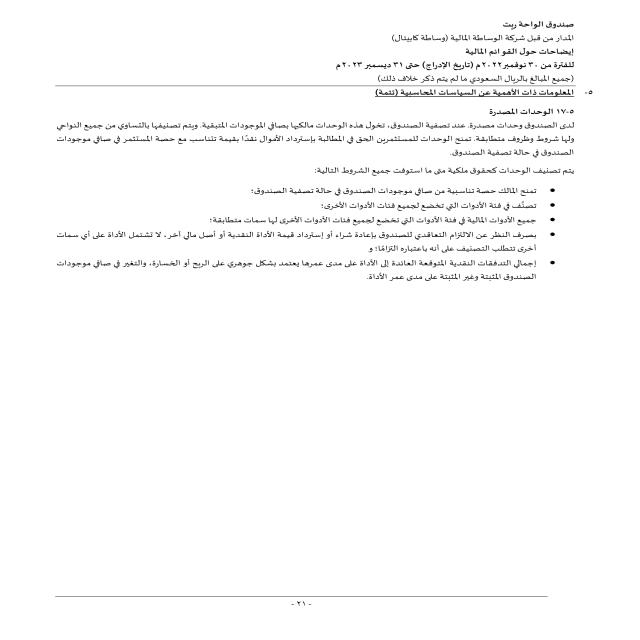notes: (452, 46, 574, 60)
text: (39, 107, 582, 298)
